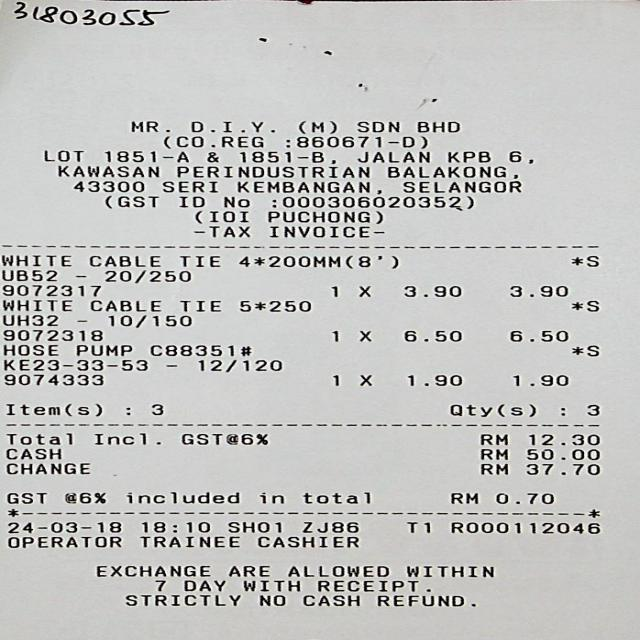text: (270, 195, 472, 210), (177, 166, 367, 178), (237, 255, 395, 268), (236, 180, 380, 193), (449, 522, 599, 533), (294, 136, 426, 148), (4, 359, 146, 370), (386, 166, 516, 178), (6, 535, 121, 548), (3, 520, 121, 532), (266, 211, 380, 223), (5, 402, 100, 416), (57, 165, 156, 178), (402, 181, 519, 192), (162, 135, 260, 148), (236, 150, 333, 163), (267, 226, 381, 237), (95, 565, 208, 576), (316, 580, 429, 591), (124, 594, 237, 605), (148, 344, 248, 356), (3, 373, 102, 385), (104, 269, 188, 283), (1, 284, 99, 296), (106, 314, 189, 328), (124, 492, 237, 502), (286, 565, 387, 576), (256, 536, 356, 547), (138, 536, 238, 547), (198, 359, 280, 372), (375, 594, 461, 606), (103, 150, 187, 162), (449, 404, 533, 416), (2, 330, 101, 340), (191, 120, 273, 132), (5, 462, 87, 474), (406, 565, 492, 576), (181, 434, 266, 444), (0, 254, 70, 266), (88, 255, 158, 267), (89, 299, 159, 311), (1, 299, 70, 311), (523, 448, 598, 459), (523, 463, 598, 474), (300, 491, 368, 503), (355, 151, 428, 162), (526, 434, 597, 445), (5, 432, 70, 444), (73, 180, 142, 191), (507, 285, 567, 297), (237, 301, 308, 311), (192, 210, 246, 223), (300, 521, 357, 533), (140, 522, 208, 532), (94, 432, 146, 445), (74, 344, 130, 356), (302, 594, 358, 606), (102, 196, 156, 208), (509, 330, 566, 341), (494, 492, 551, 503), (402, 285, 458, 296), (402, 330, 458, 341), (0, 314, 55, 325), (2, 344, 57, 355), (5, 448, 60, 459), (243, 580, 298, 591), (192, 225, 246, 236), (162, 181, 215, 192), (1, 269, 54, 280), (406, 375, 460, 385), (512, 375, 566, 385), (226, 522, 280, 532), (297, 120, 335, 134), (355, 120, 398, 132), (417, 120, 458, 132), (177, 255, 217, 267), (5, 492, 45, 504), (43, 149, 82, 161), (446, 151, 488, 162), (225, 565, 267, 576), (61, 492, 103, 502), (182, 580, 224, 590), (179, 301, 218, 311), (130, 121, 160, 133), (570, 255, 597, 268), (570, 344, 597, 356), (508, 150, 532, 163), (222, 196, 247, 208), (449, 492, 475, 503), (179, 195, 202, 207), (405, 521, 428, 533), (480, 434, 505, 445), (480, 448, 505, 459), (480, 463, 505, 474), (257, 594, 282, 605), (570, 301, 597, 311), (258, 492, 282, 503), (355, 285, 370, 298), (358, 329, 372, 342), (357, 374, 372, 386), (205, 151, 218, 162), (150, 404, 162, 415), (586, 404, 598, 415), (332, 329, 341, 342), (330, 285, 338, 297), (331, 374, 339, 386), (154, 580, 163, 590)
